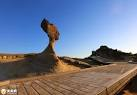yehliu: (39, 17, 64, 42)
